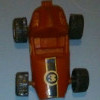rojo_sur: (16, 1, 88, 99)
